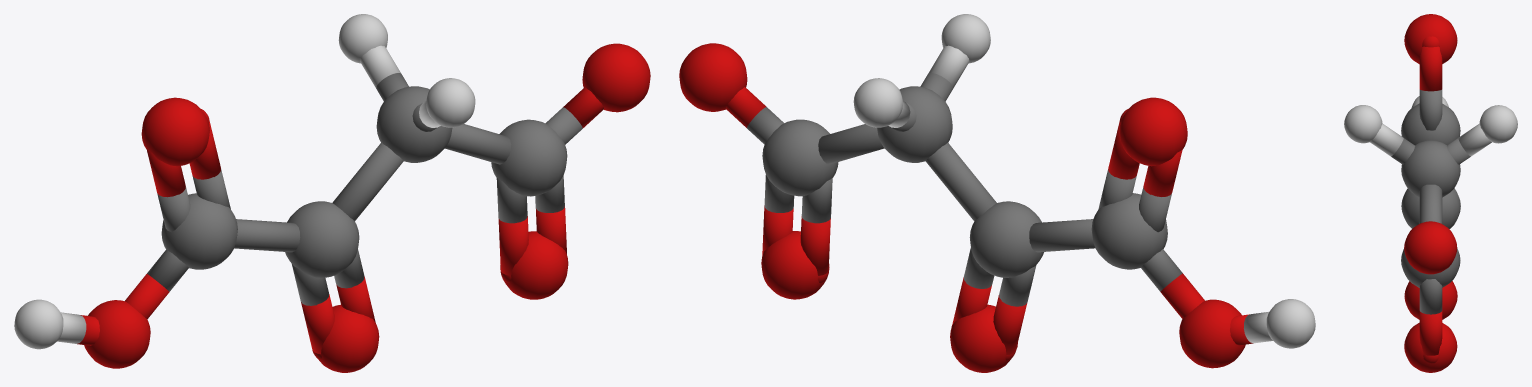
3 views of the same model, side by side, from view 1: azimuth 30°, elevation 25°; view 2: azimuth 150°, elevation 25°; view 3: azimuth 270°, elevation 25° (orthographic). The views are drawn at different scales.
Parts seen in each view (by area): view 1: skp641B (×34); view 2: skp641B (×34); view 3: skp641B (×20).
Boxes of the visible parts, <box> form: skp641B (×34): <box>14,14,650,372</box>; skp641B (×34): <box>679,14,1315,372</box>; skp641B (×20): <box>1344,14,1517,372</box>.
Size of the model in its own units: 291 by 90 by 137.
